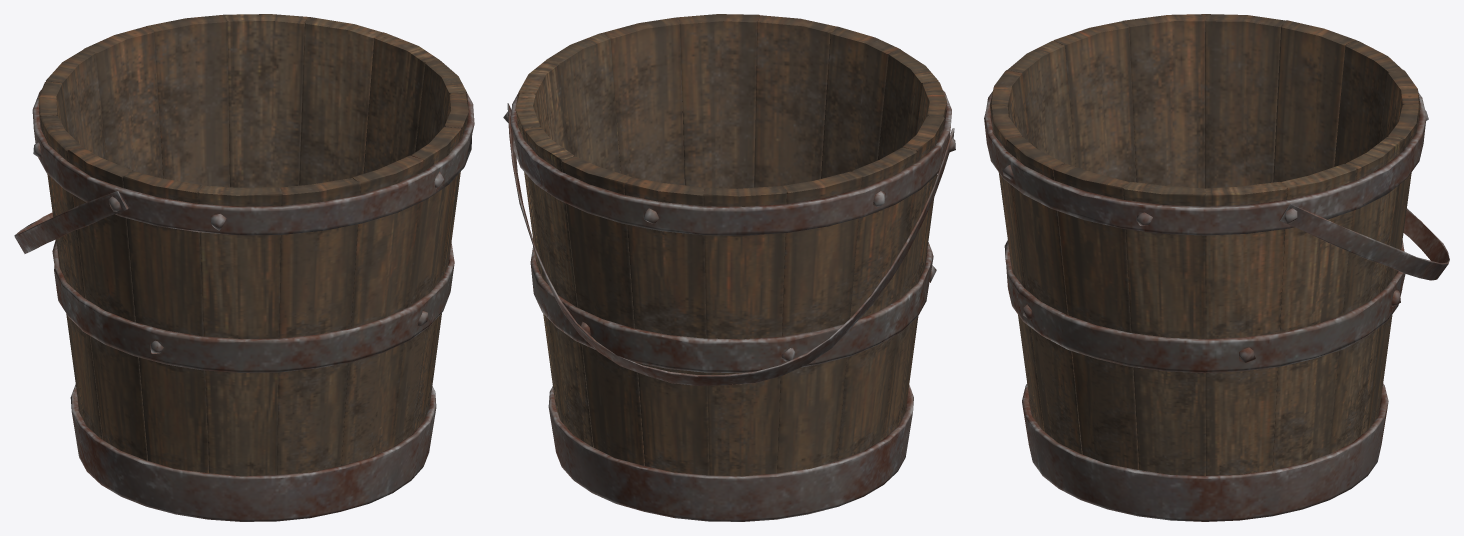
The model's file is SM_Bucket.fbx.
3 renders of one model, left to right at view 1: azimuth 30°, elevation 25°; view 2: azimuth 150°, elevation 25°; view 3: azimuth 270°, elevation 25°, orthographic.
Parts seen in each view (by area): view 1: SM_Bucket_LOD0; view 2: SM_Bucket_LOD0; view 3: SM_Bucket_LOD0.
Part boxes in pixels (x1,y1,x2,y2): SM_Bucket_LOD0: [14, 14, 474, 521]; SM_Bucket_LOD0: [503, 14, 955, 521]; SM_Bucket_LOD0: [984, 14, 1449, 521].
Bounding box in the file's own units: 37.27 × 39.2 × 32.08.
